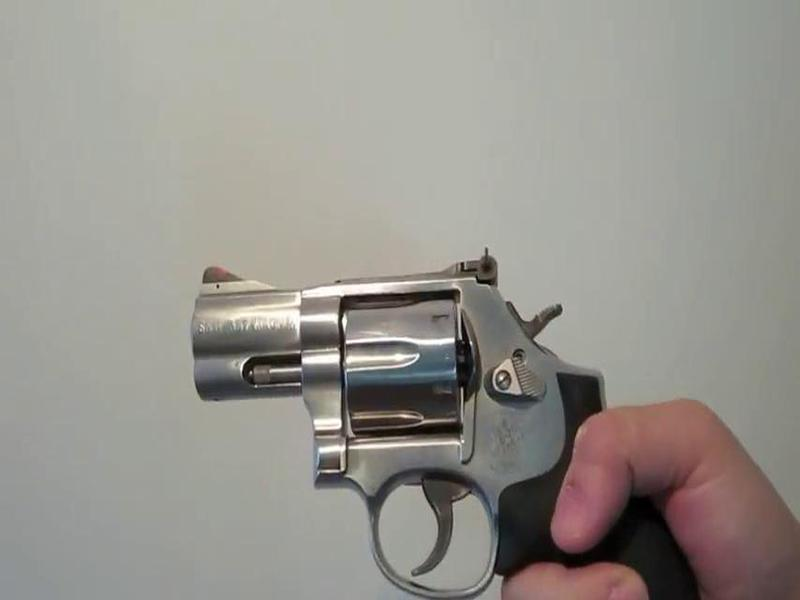Revolver: (168, 229, 653, 571)
